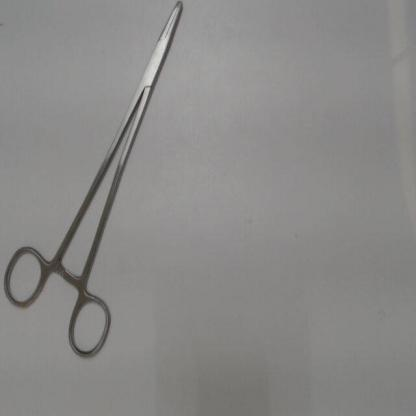8 Mayo Needle Holder: (0, 0, 190, 368)
